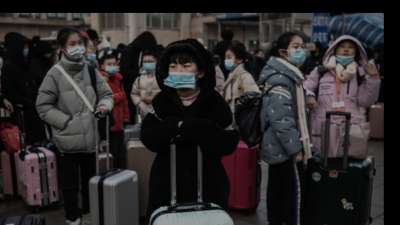mask_weared_incorrect: (336, 42, 354, 63), (84, 42, 97, 62)
with_mask: (167, 61, 199, 89), (64, 37, 85, 59), (286, 41, 306, 64), (223, 52, 236, 72), (141, 58, 155, 73), (105, 60, 117, 74)
